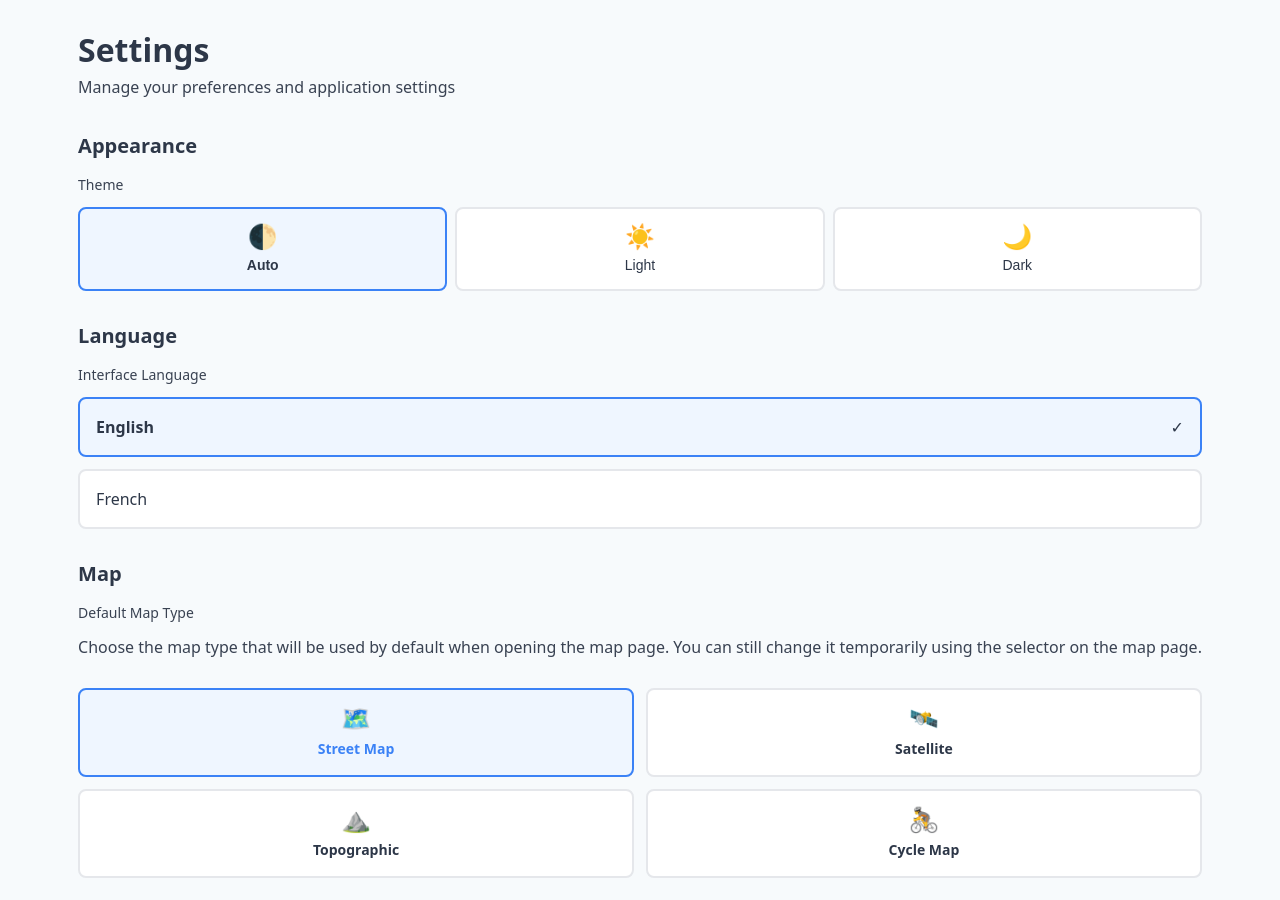
Scenario: SettingsPage Component › Form Interaction › should have save button disabled initially
Step 1. Click the radio button labelled "🛰️ Satellite" → (924, 733), box left=646, top=688, right=1202, bottom=777
(page scrolled)
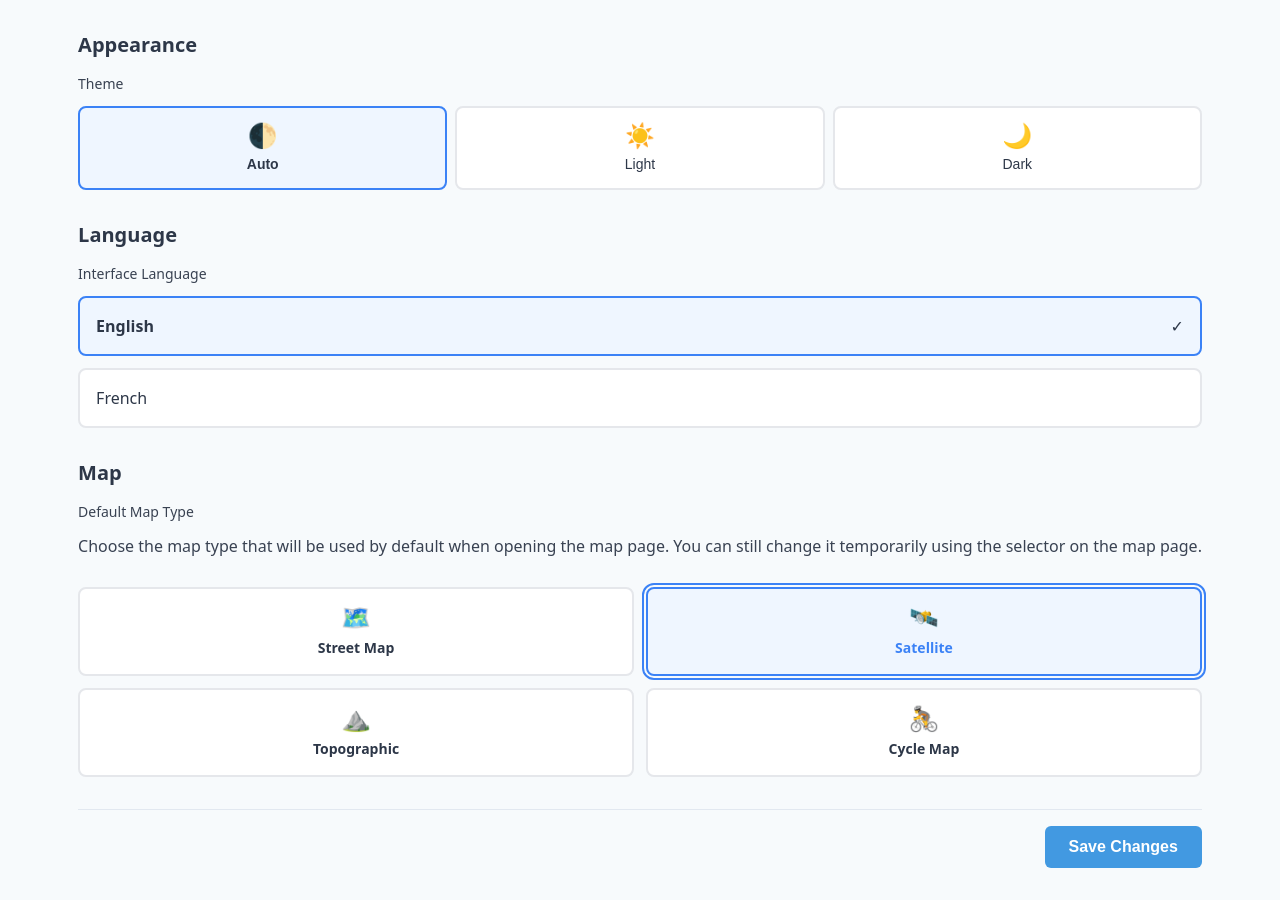
Check: the button "Save Changes" is enabled, box left=1044, top=826, right=1202, bottom=868
